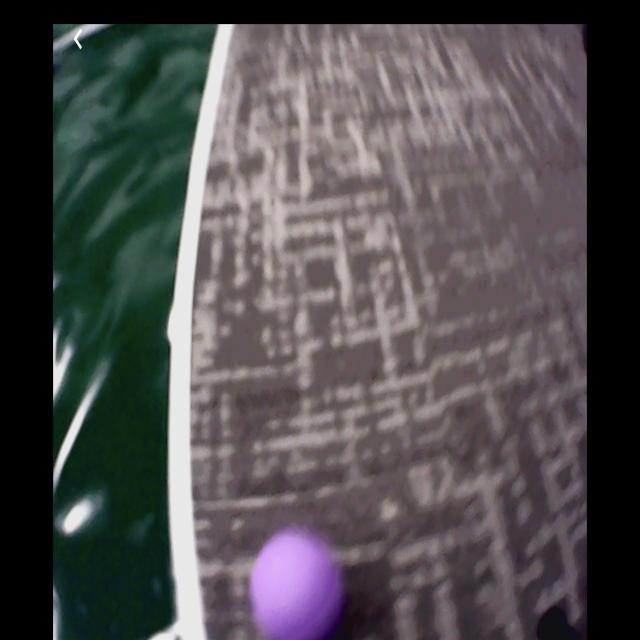ball: (253, 534, 341, 640)
